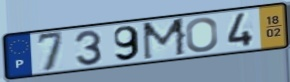3: (73, 29, 105, 67)
4: (225, 11, 256, 49)
7: (36, 31, 65, 74)
9: (113, 25, 141, 63)
M: (141, 16, 188, 62)
O: (184, 16, 220, 54)
